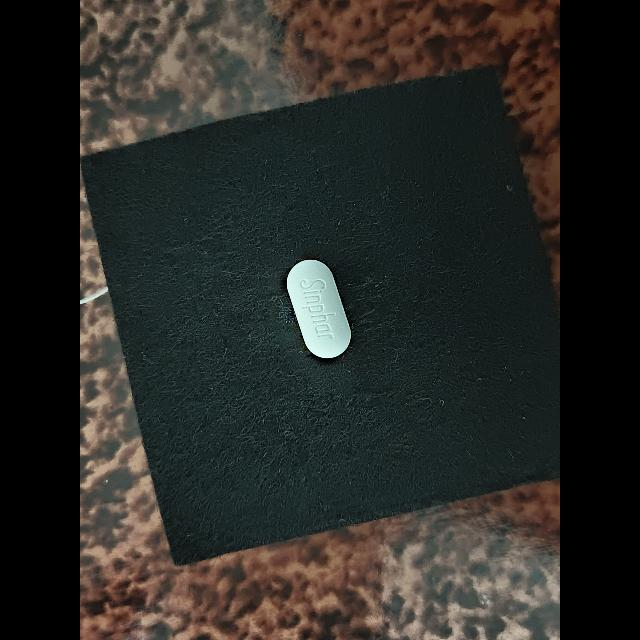Intact Pill: (287, 259, 351, 359)
